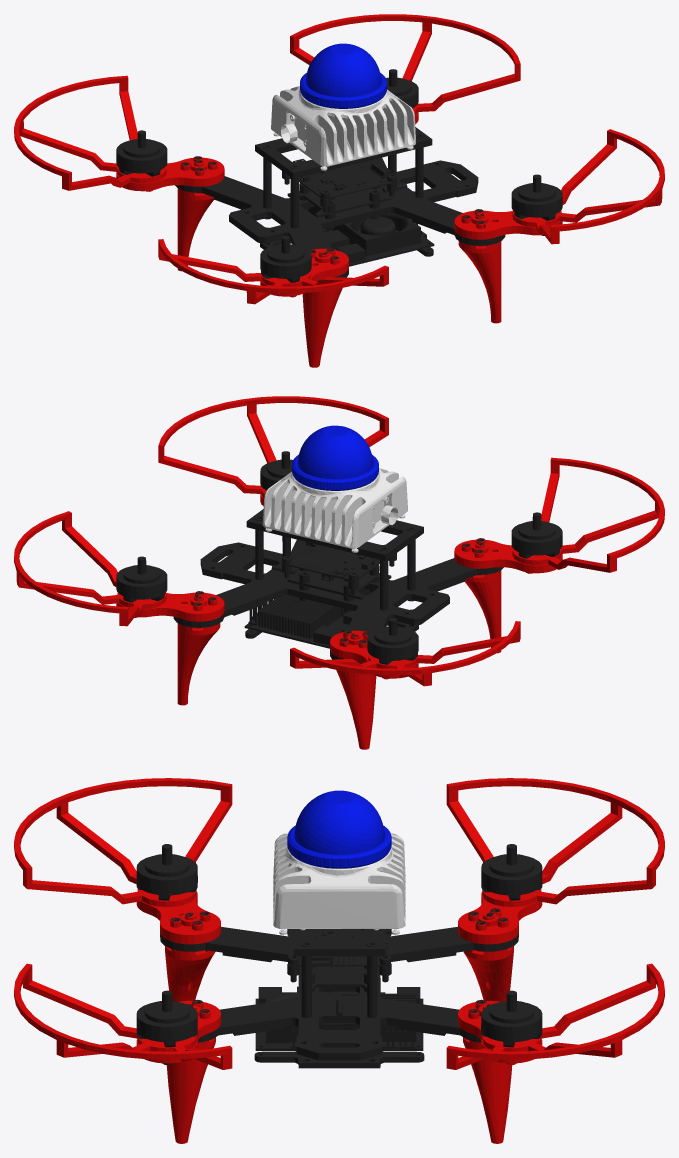
Rendered from main_body_livox.dae.
3 views of the same model, one above another, from view 1: azimuth 30°, elevation 25°; view 2: azimuth 150°, elevation 25°; view 3: azimuth 270°, elevation 25° (orthographic). The views are drawn at different scales.
Parts seen in each view (by area): view 1: mini_quadrotor_livox_black, mini_quadrotor_livox_red, mini_quadrotor_livox_silver, mini_quadrotor_livox_blue; view 2: mini_quadrotor_livox_black, mini_quadrotor_livox_red, mini_quadrotor_livox_silver, mini_quadrotor_livox_blue; view 3: mini_quadrotor_livox_red, mini_quadrotor_livox_black, mini_quadrotor_livox_silver, mini_quadrotor_livox_blue.
Part boxes in pixels (x1,y1,x2,y2): mini_quadrotor_livox_black: [116, 69, 562, 282]; mini_quadrotor_livox_red: [14, 14, 664, 367]; mini_quadrotor_livox_silver: [271, 86, 415, 170]; mini_quadrotor_livox_blue: [300, 43, 386, 108]; mini_quadrotor_livox_black: [116, 451, 562, 664]; mini_quadrotor_livox_red: [14, 396, 664, 749]; mini_quadrotor_livox_silver: [262, 468, 407, 552]; mini_quadrotor_livox_blue: [292, 425, 378, 490]; mini_quadrotor_livox_red: [14, 778, 664, 1143]; mini_quadrotor_livox_black: [136, 844, 542, 1068]; mini_quadrotor_livox_silver: [273, 833, 405, 934]; mini_quadrotor_livox_blue: [287, 790, 391, 868].
Size of the model in its own units: 0.3201 by 0.3189 by 0.1586.
